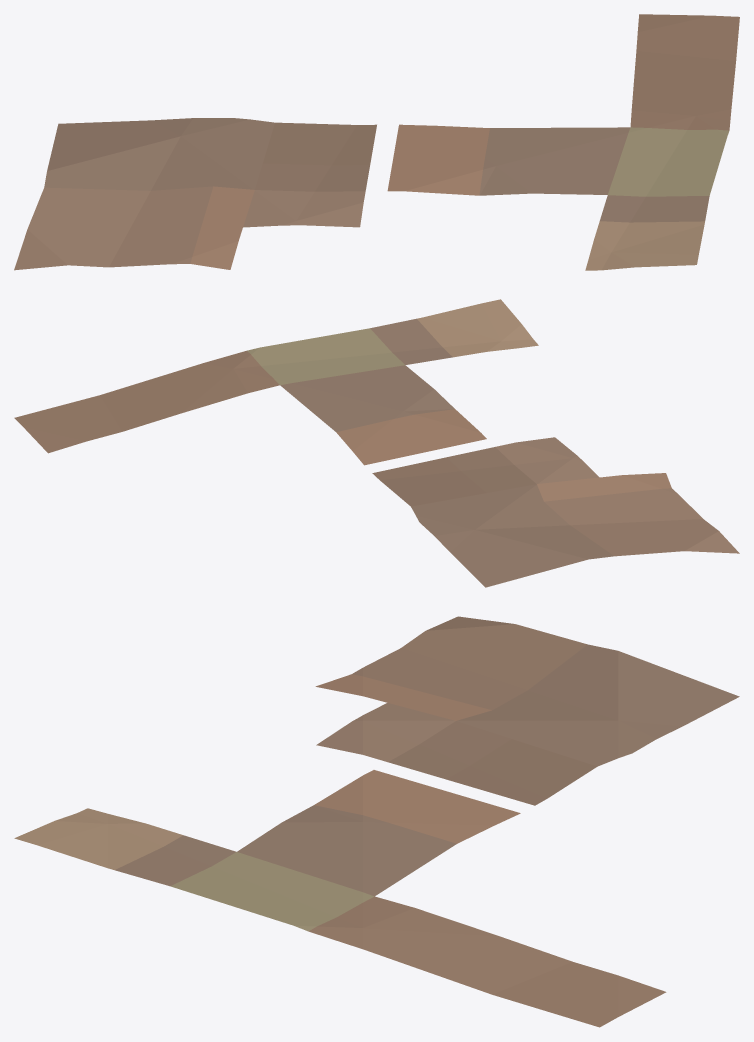
File: farm_-11_-13_soil.glb
The picture shows the model from 3 angles, top to bottom: view 1: azimuth 30°, elevation 25°; view 2: azimuth 150°, elevation 25°; view 3: azimuth 270°, elevation 25°; orthographic projection. The views are drawn at different scales.
Visible parts, largest first — view 1: geometry_0; view 2: geometry_0; view 3: geometry_0.
Part boxes in pixels (box(x1,y1,x2,y2)): geometry_0: box(14, 14, 739, 270); geometry_0: box(14, 299, 739, 587); geometry_0: box(14, 616, 739, 1027).
Bounding box in the file's own units: 316 × 13.23 × 228.
